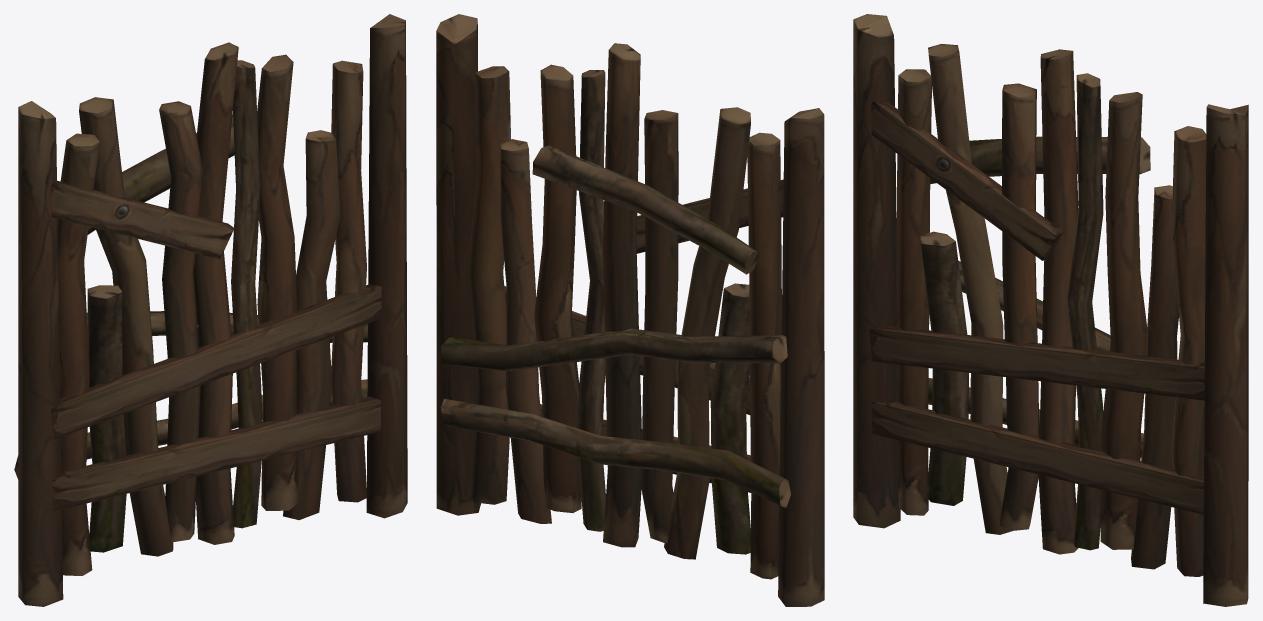
The model's file is mf_wall012.FBX.
3 views of the same model, side by side, from view 1: azimuth 30°, elevation 25°; view 2: azimuth 150°, elevation 25°; view 3: azimuth 330°, elevation 25° (orthographic).
Parts seen in each view (by area): view 1: mf_wall01_02; view 2: mf_wall01_02; view 3: mf_wall01_02.
Boxes of the visible parts, left/top/right/bottom form: mf_wall01_02: left=14, top=14, right=407, bottom=606; mf_wall01_02: left=436, top=14, right=824, bottom=606; mf_wall01_02: left=853, top=14, right=1248, bottom=606.
Size of the model in its own units: 2 by 2.51 by 0.3749.
